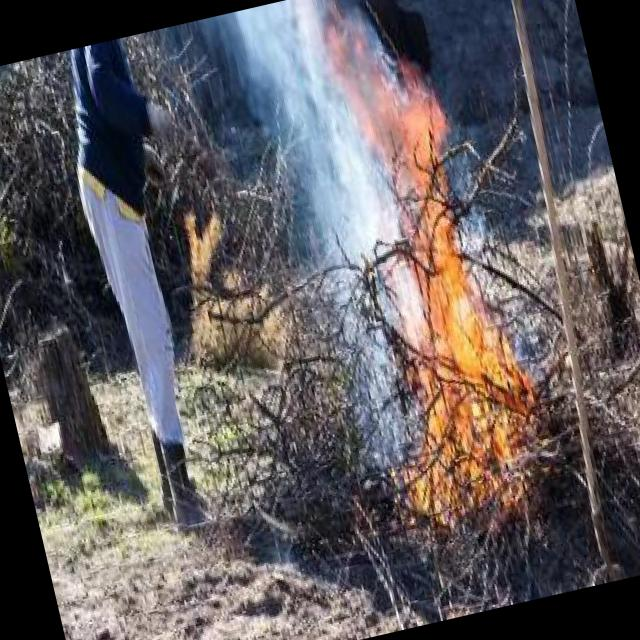Fire: (301, 1, 556, 530)
Smoke: (226, 0, 436, 455)
